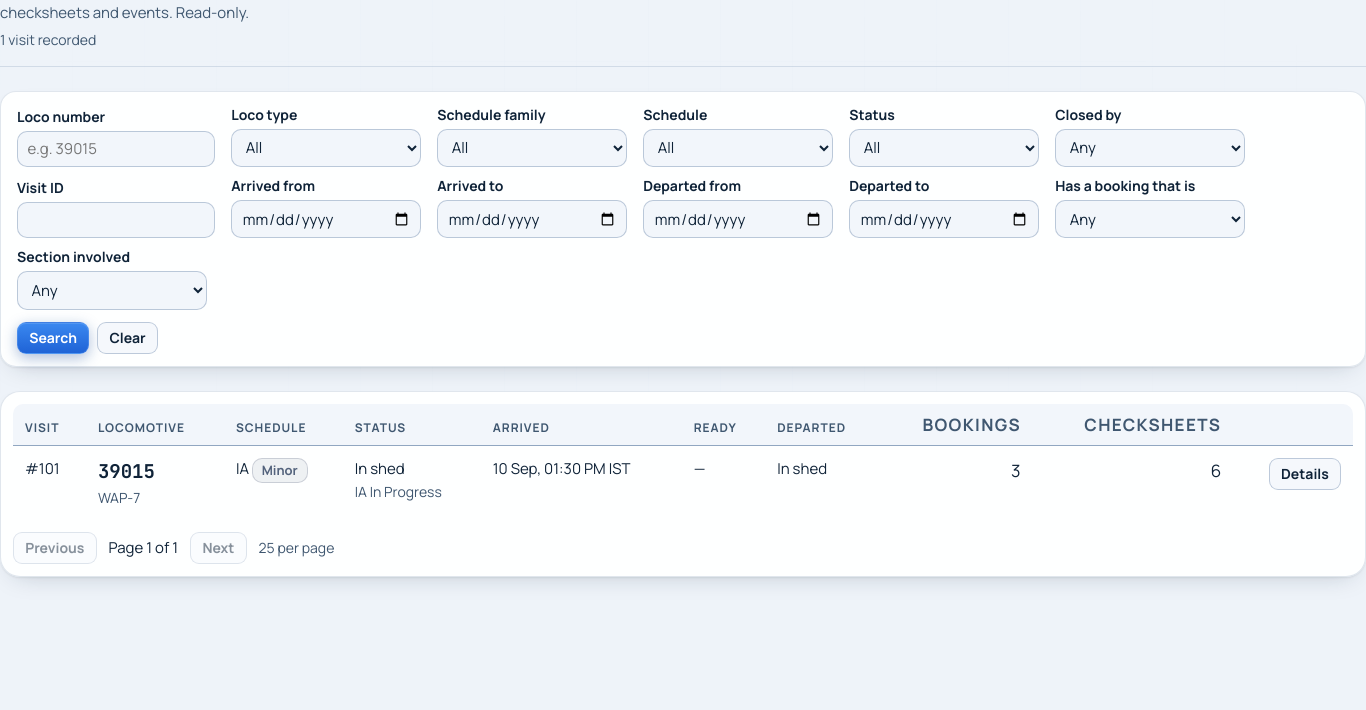
Shed Visit History - one visit opened › shows every Minor milestone and says "Not recorded" rather than inventing a time or a zero
The image size is (1366, 710).
Click the button "Details" at (1305, 474), box left=1269, top=458, right=1341, bottom=490
(page scrolled)
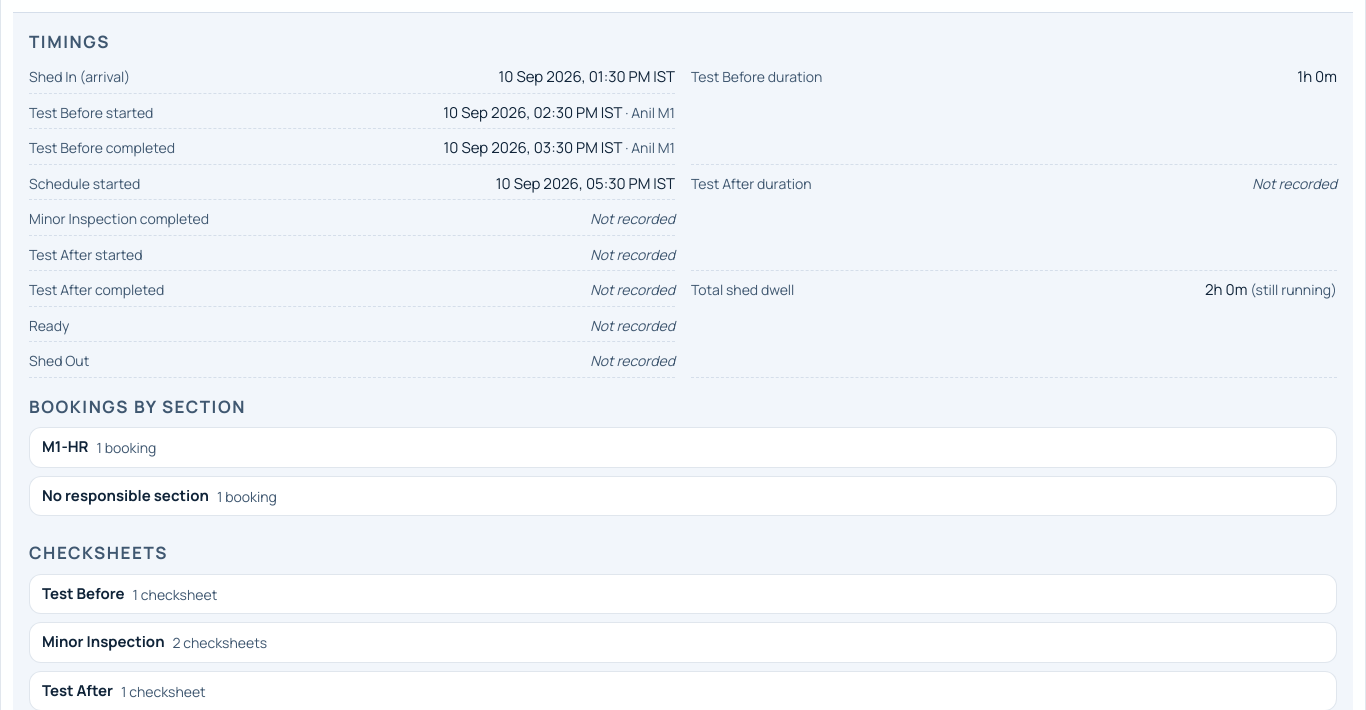
Expected: the heading "Timings" is shown, left=29, top=30, right=110, bottom=53
Expected: the text "Test After duration" shows "Not recorded", left=1252, top=174, right=1337, bottom=193
Expected: the text "Test Before duration" shows "1h 0m", left=1297, top=66, right=1337, bottom=87
